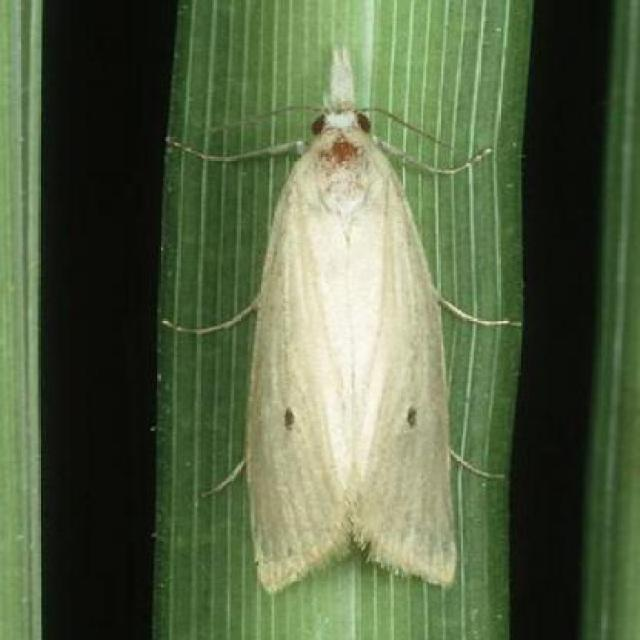stem-borer: (195, 41, 467, 594)
